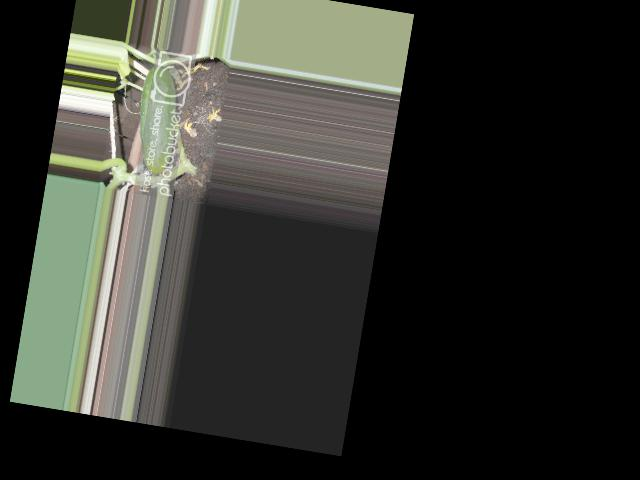cucumber: (130, 64, 186, 175)
